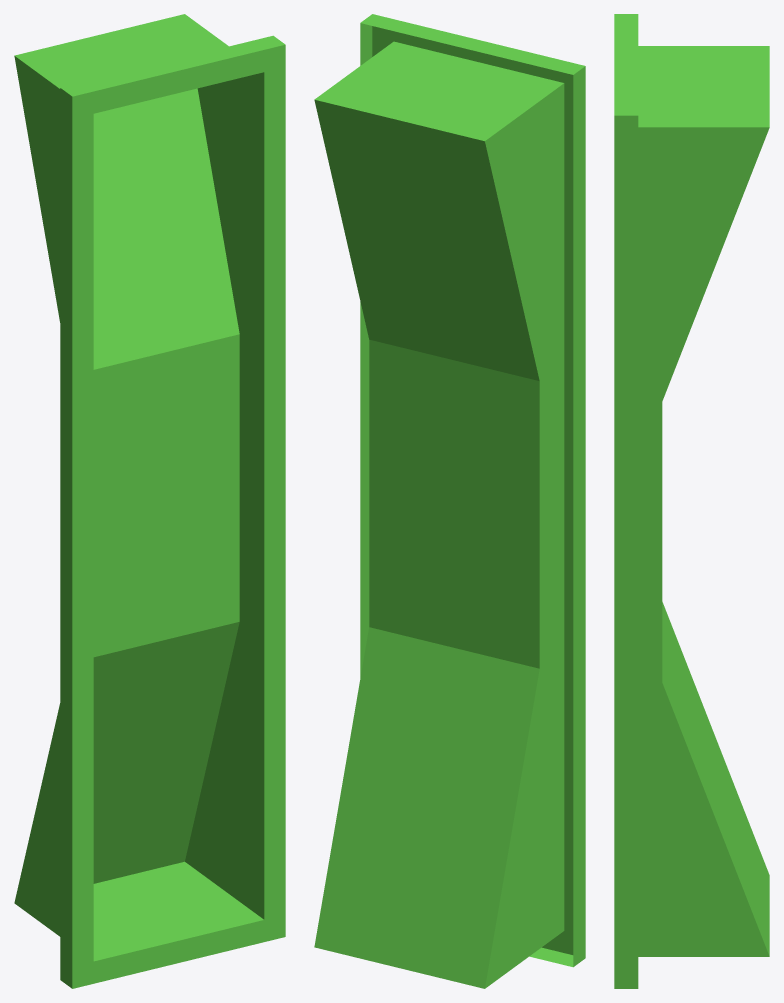
The model's file is Wall_B_4x1m.FBX.
3 views of the same model, side by side, from view 1: azimuth 30°, elevation 25°; view 2: azimuth 150°, elevation 25°; view 3: azimuth 270°, elevation 25° (orthographic). The views are drawn at different scales.
Visible parts, largest first — view 1: Wall_B_4x1m; view 2: Wall_B_4x1m; view 3: Wall_B_4x1m.
Boxes of the visible parts, x1=… form: Wall_B_4x1m: x1=14, y1=14, x2=285, y2=988; Wall_B_4x1m: x1=314, y1=14, x2=585, y2=988; Wall_B_4x1m: x1=614, y1=14, x2=769, y2=988.
Bounding box in the file's own units: 100 × 400 × 64.57.
